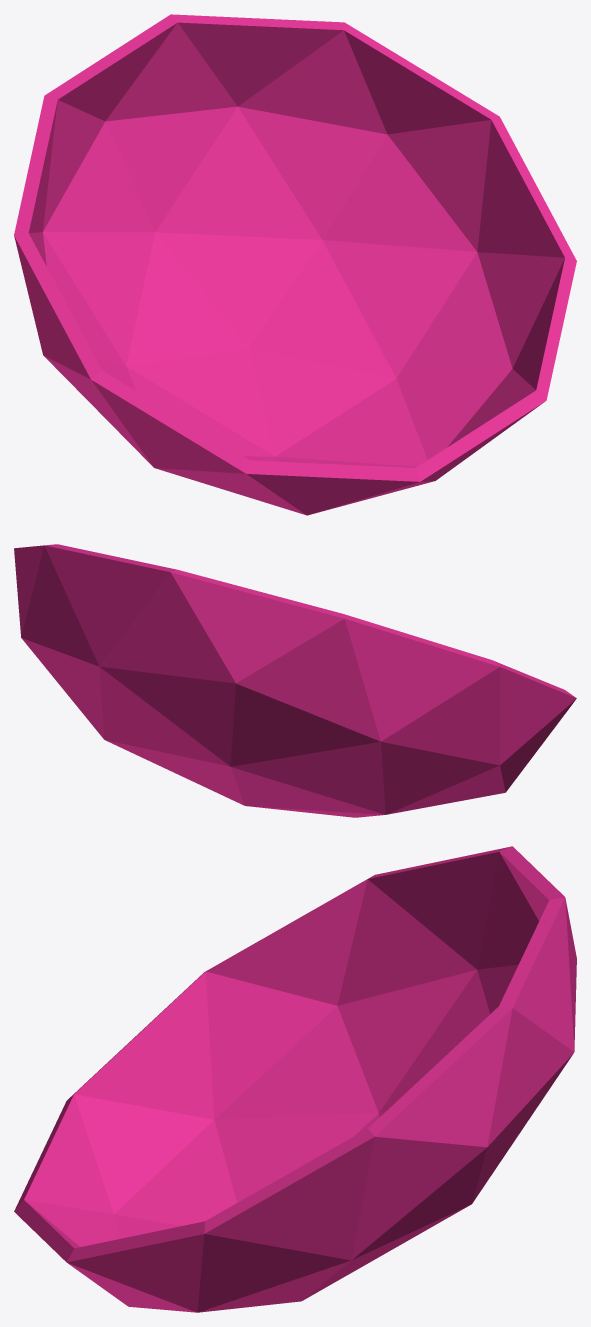
File: blossomParticle.fbx
The picture shows the model from 3 angles, top to bottom: view 1: azimuth 30°, elevation 25°; view 2: azimuth 150°, elevation 25°; view 3: azimuth 270°, elevation 25°; orthographic projection. The views are drawn at different scales.
Visible parts, largest first — view 1: blossom particle; view 2: blossom particle; view 3: blossom particle.
Part boxes in pixels (x1=…): blossom particle: x1=14, y1=14, x2=576, y2=515; blossom particle: x1=14, y1=544, x2=576, y2=817; blossom particle: x1=14, y1=846, x2=576, y2=1312.
Bounding box in the file's own units: 19.02 × 12.73 × 17.28.
